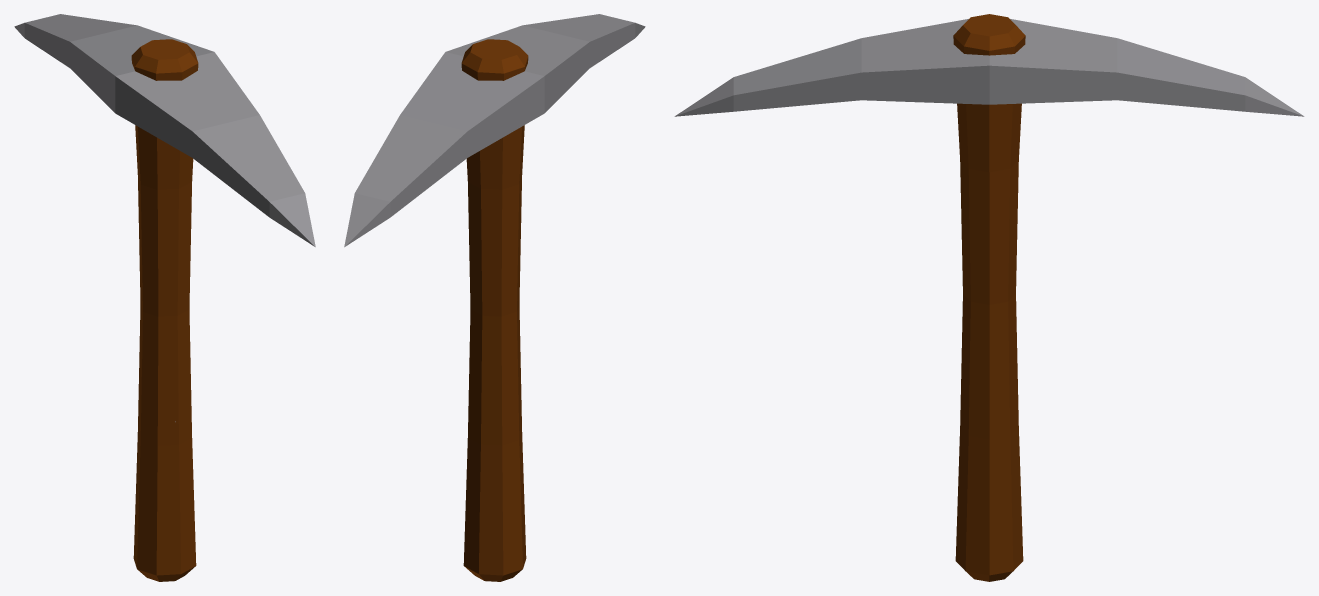
The model's file is pickaxe.obj.
The picture shows the model from 3 angles, left to right: view 1: azimuth 30°, elevation 25°; view 2: azimuth 150°, elevation 25°; view 3: azimuth 270°, elevation 25°; orthographic projection. The views are drawn at different scales.
Parts seen in each view (by area): view 1: Cube; view 2: Cube; view 3: Cube.
Boxes of the visible parts, bbox=[...] form: Cube: bbox=[14, 14, 315, 581]; Cube: bbox=[344, 14, 645, 581]; Cube: bbox=[674, 14, 1304, 581].
Bounding box in the file's own units: 1.23 × 6.2 × 6.47.
Materials: 1 (1 with a texture image).
